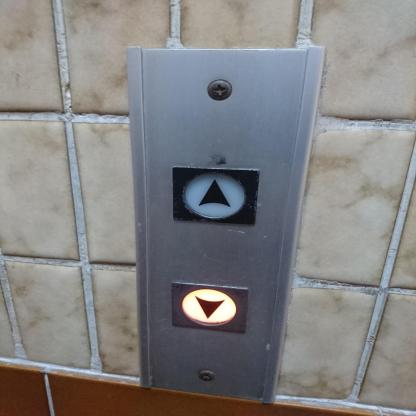down: (168, 274, 253, 336)
up: (170, 163, 264, 230)
